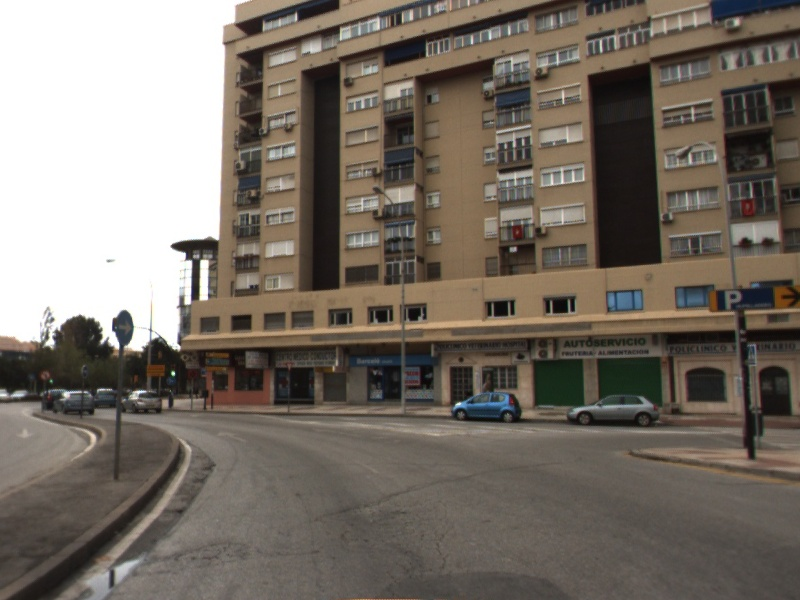STRAIGHT: (215, 428, 249, 445)
